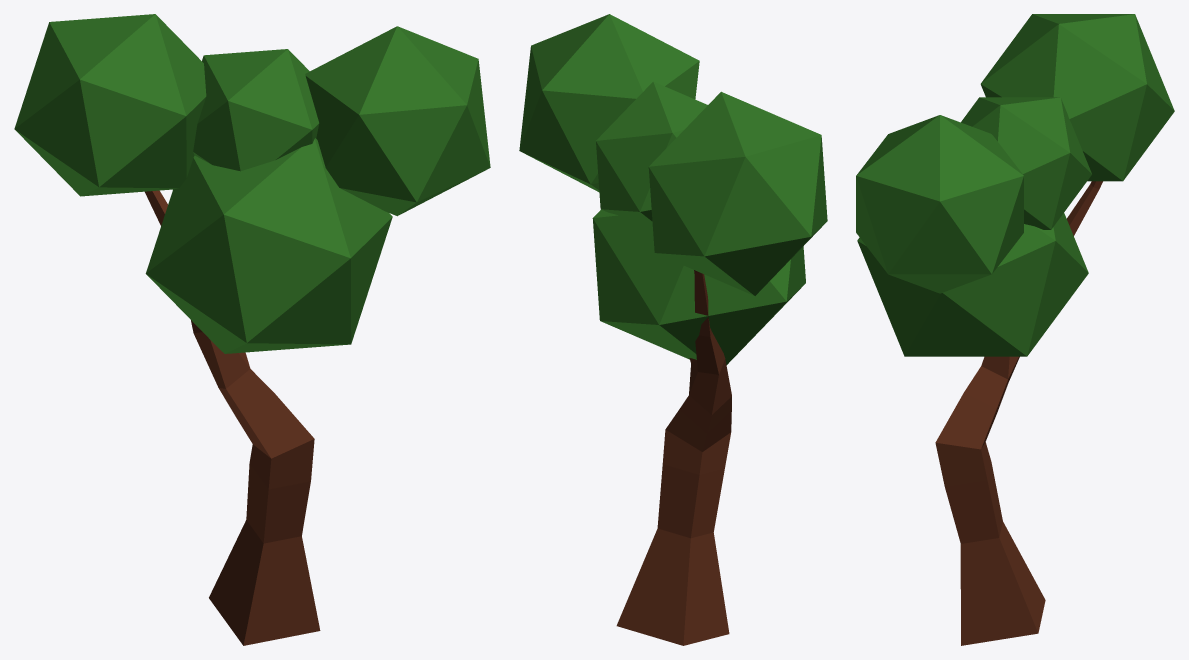
The model's file is tree_var1.fbx.
The picture shows the model from 3 angles, left to right: view 1: azimuth 30°, elevation 25°; view 2: azimuth 150°, elevation 25°; view 3: azimuth 270°, elevation 25°; orthographic projection. The views are drawn at different scales.
Parts seen in each view (by area): view 1: tree_var1; view 2: tree_var1; view 3: tree_var1.
Boxes of the visible parts, bbox=[...] form: tree_var1: bbox=[14, 14, 490, 645]; tree_var1: bbox=[519, 14, 827, 645]; tree_var1: bbox=[856, 14, 1174, 645].
Size of the model in its own units: 415 by 638 by 323.
